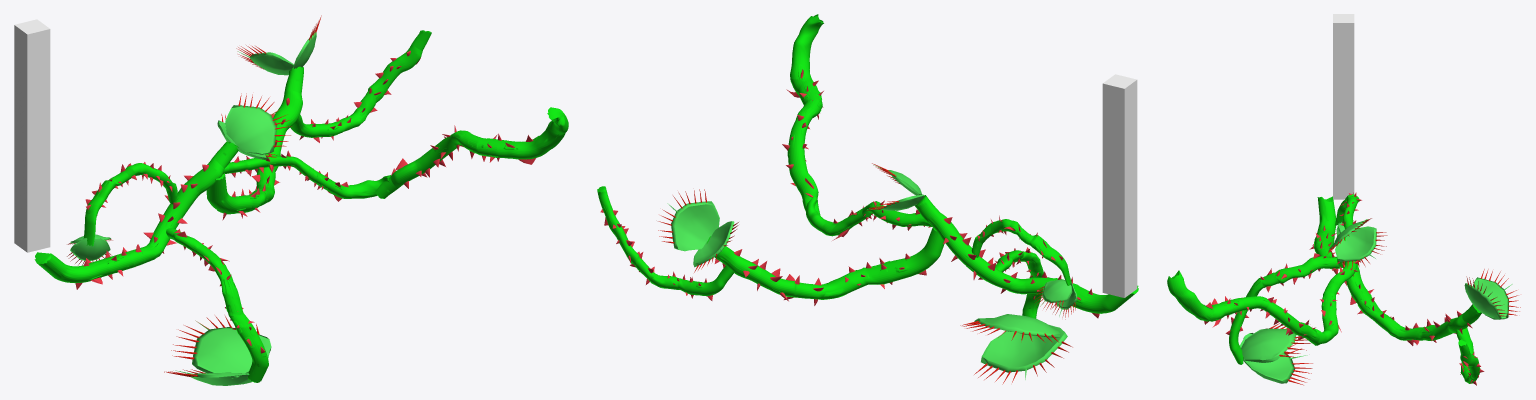
File: Vine1Redo.fbx
The picture shows the model from 3 angles, left to right: view 1: azimuth 30°, elevation 25°; view 2: azimuth 150°, elevation 25°; view 3: azimuth 270°, elevation 25°; orthographic projection. The views are drawn at different scales.
Visible parts, largest first — view 1: Cube__1_, Cylinder, Cylinder.006, Cylinder.003, Cylinder.005, Cylinder.004, side2.006, Cylinder.002, side2.003, Cylinder.001, side2.004, side2.007 (+1 smaller); view 2: Cube__1_, Cylinder.003, Cylinder, Cylinder.006, side2.007, Cylinder.004, side2.005, Cylinder.002, Cylinder.001, side2.006, Cylinder.005, side2.004 (+1 smaller); view 3: Cube__1_, Cylinder.006, Cylinder.003, Cylinder.005, side2.006, Cylinder.002, side2.002, Cylinder, side2.007, side2.004, Cylinder.004, side2.005 (+1 smaller).
Boxes of the visible parts, left/top/right/bottom form: Cube__1_: left=14, top=19, right=50, bottom=252; Cylinder: left=34, top=141, right=238, bottom=289; Cylinder.006: left=375, top=107, right=568, bottom=198; Cylinder.003: left=206, top=66, right=303, bottom=220; Cylinder.005: left=166, top=228, right=268, bottom=382; Cylinder.004: left=290, top=30, right=431, bottom=142; side2.006: left=171, top=316, right=271, bottom=378; Cylinder.002: left=223, top=150, right=390, bottom=201; side2.003: left=225, top=93, right=291, bottom=154; Cylinder.001: left=83, top=162, right=178, bottom=246; side2.004: left=236, top=45, right=293, bottom=75; side2.007: left=164, top=369, right=252, bottom=385; Cube__1_: left=1102, top=74, right=1137, bottom=297; Cylinder.003: left=706, top=227, right=944, bottom=305; Cylinder: left=915, top=195, right=1138, bottom=318; Cylinder.006: left=782, top=14, right=823, bottom=214; side2.007: left=974, top=325, right=1072, bottom=384; Cylinder.004: left=597, top=186, right=733, bottom=300; side2.005: left=658, top=189, right=719, bottom=251; Cylinder.002: left=806, top=197, right=932, bottom=240; Cylinder.001: left=971, top=215, right=1071, bottom=285; side2.006: left=960, top=314, right=1060, bottom=342; Cylinder.005: left=995, top=247, right=1043, bottom=318; side2.004: left=693, top=221, right=738, bottom=272; Cube__1_: left=1333, top=14, right=1354, bottom=199; Cylinder.006: left=1167, top=270, right=1319, bottom=345; Cylinder.003: left=1341, top=262, right=1481, bottom=345; Cylinder.005: left=1225, top=253, right=1338, bottom=364; side2.006: left=1241, top=323, right=1311, bottom=362; Cylinder.002: left=1312, top=261, right=1358, bottom=344; side2.002: left=1335, top=226, right=1387, bottom=268; Cylinder: left=1309, top=196, right=1360, bottom=274; side2.007: left=1239, top=333, right=1312, bottom=385; side2.004: left=1473, top=269, right=1520, bottom=319; Cylinder.004: left=1456, top=327, right=1484, bottom=385; side2.005: left=1464, top=276, right=1508, bottom=319.
Bounding box in the file's own units: 2108 × 1531 × 1655.
